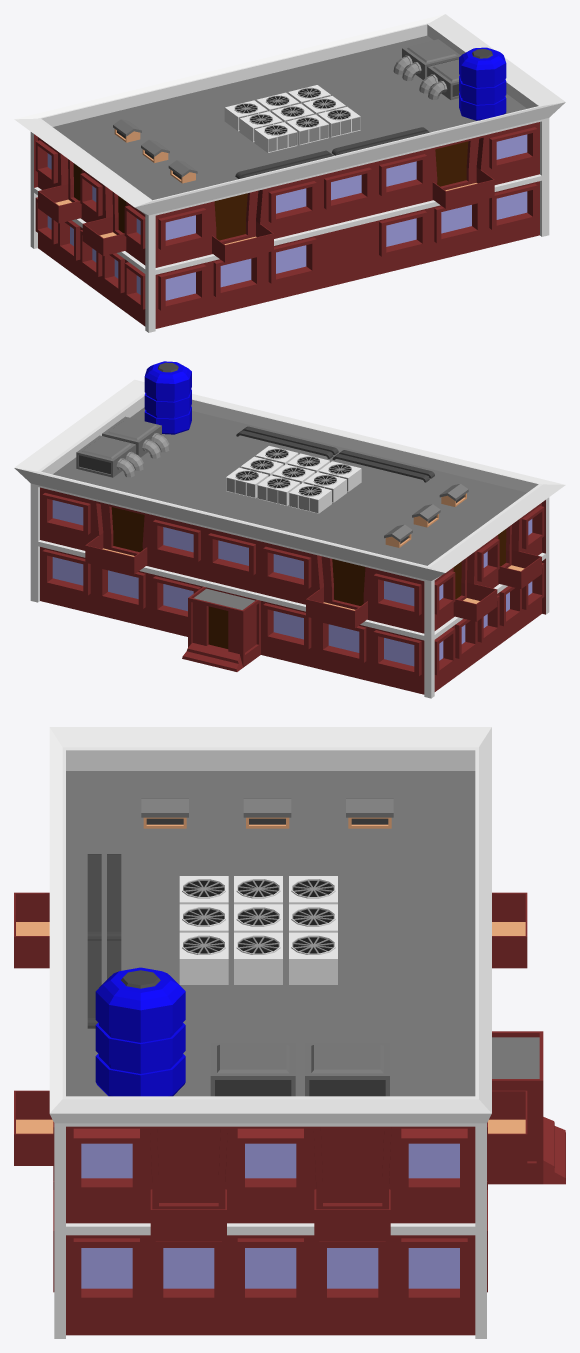
Rendered from Apartment Red Bottom.FBX.
3 views of the same model, one above another, from view 1: azimuth 30°, elevation 25°; view 2: azimuth 150°, elevation 25°; view 3: azimuth 270°, elevation 25° (orthographic). The views are drawn at different scales.
Parts seen in each view (by area): view 1: Apartment red bottom; view 2: Apartment red bottom; view 3: Apartment red bottom.
Boxes of the visible parts, left/top/right/bottom form: Apartment red bottom: left=14, top=14, right=565, bottom=332; Apartment red bottom: left=14, top=361, right=565, bottom=698; Apartment red bottom: left=14, top=727, right=565, bottom=1338.
Bounding box in the file's own units: 1231 × 471 × 731.
Materials: 1 (1 with a texture image).
